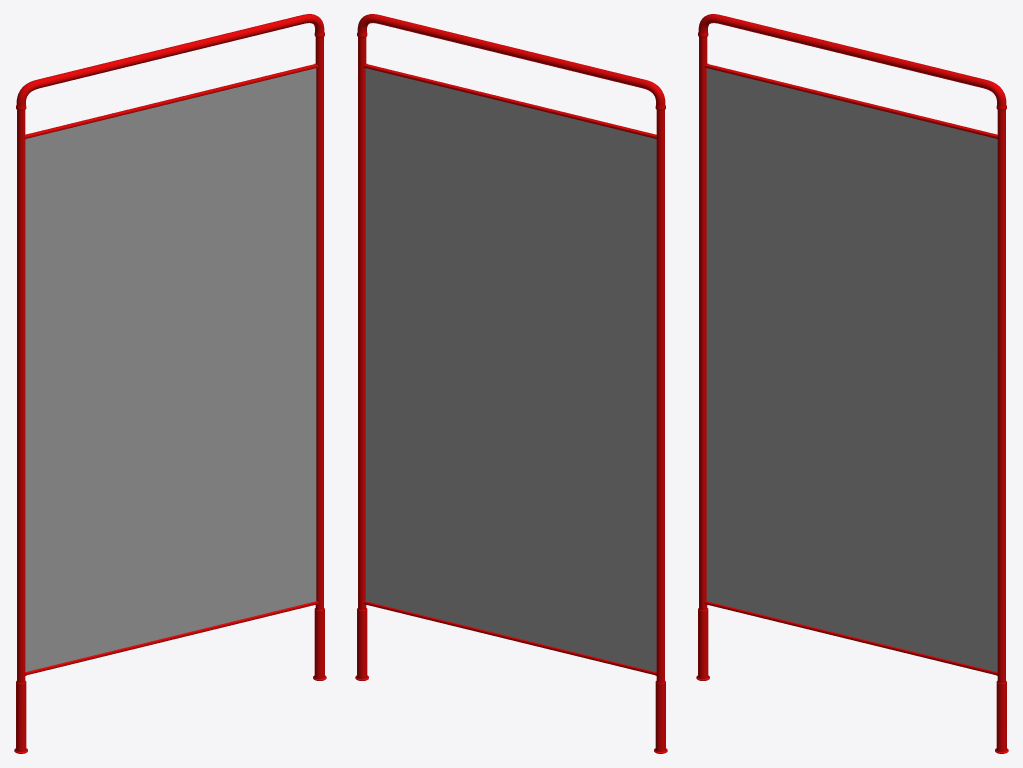
The model's file is Medical_screen_1.fbx.
The picture shows the model from 3 angles, left to right: view 1: azimuth 30°, elevation 25°; view 2: azimuth 150°, elevation 25°; view 3: azimuth 330°, elevation 25°; orthographic projection.
Parts seen in each view (by area): view 1: L6:pCube270; view 2: L6:pCube270; view 3: L6:pCube270.
Part boxes in pixels (<box>): L6:pCube270: <box>14,14,326,753</box>; L6:pCube270: <box>355,14,667,753</box>; L6:pCube270: <box>696,14,1008,753</box>.
Size of the model in its own units: 111 by 227 by 4.29.
